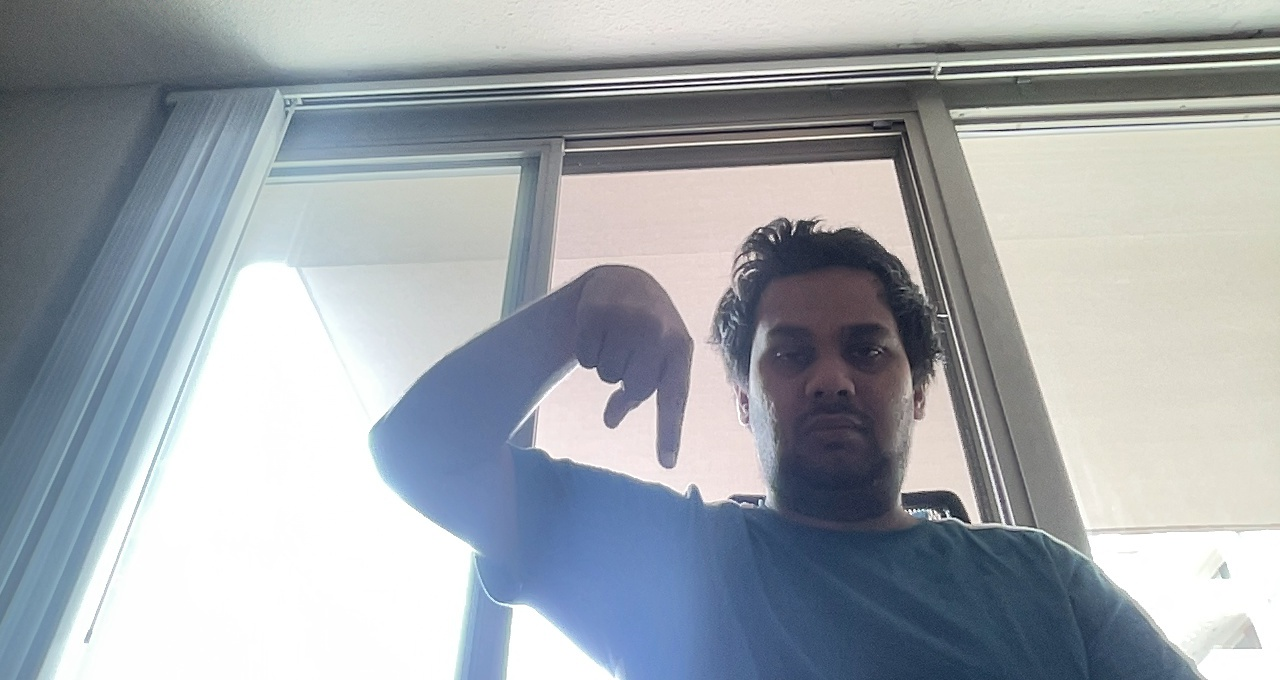fingerdown: (571, 260, 705, 468)
